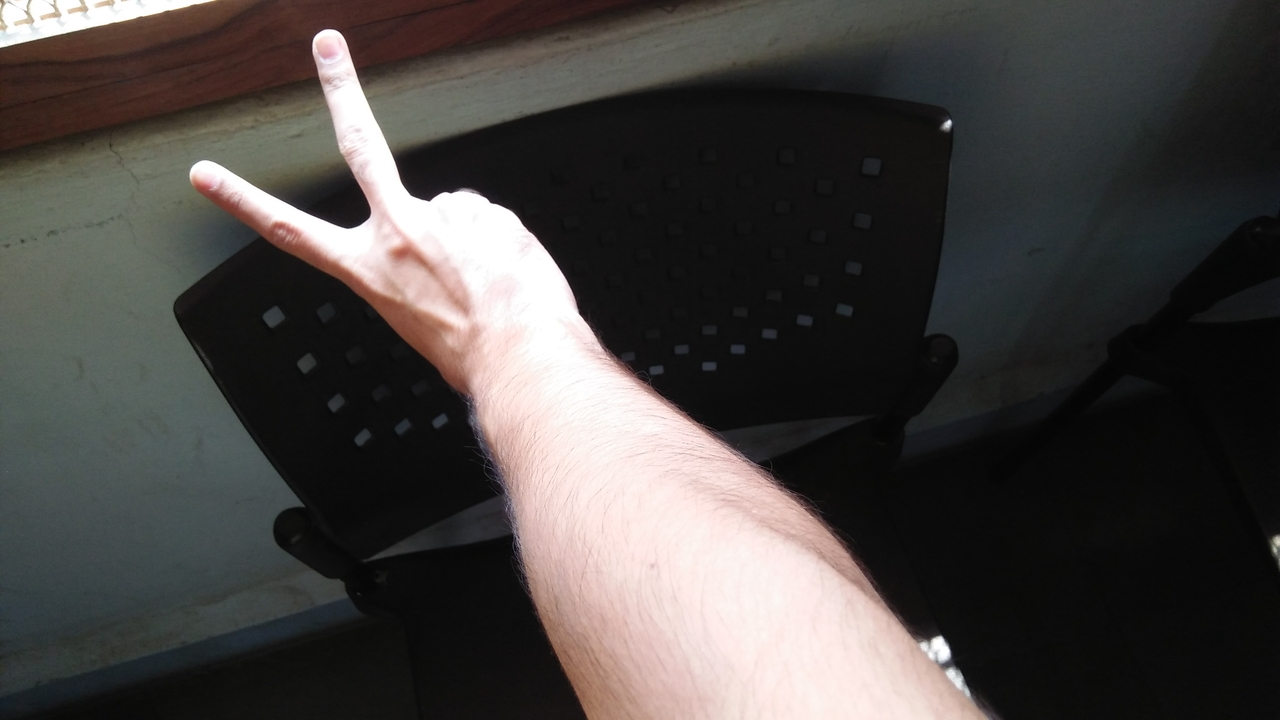fingertip: (300, 18, 354, 70), (180, 152, 232, 202)
